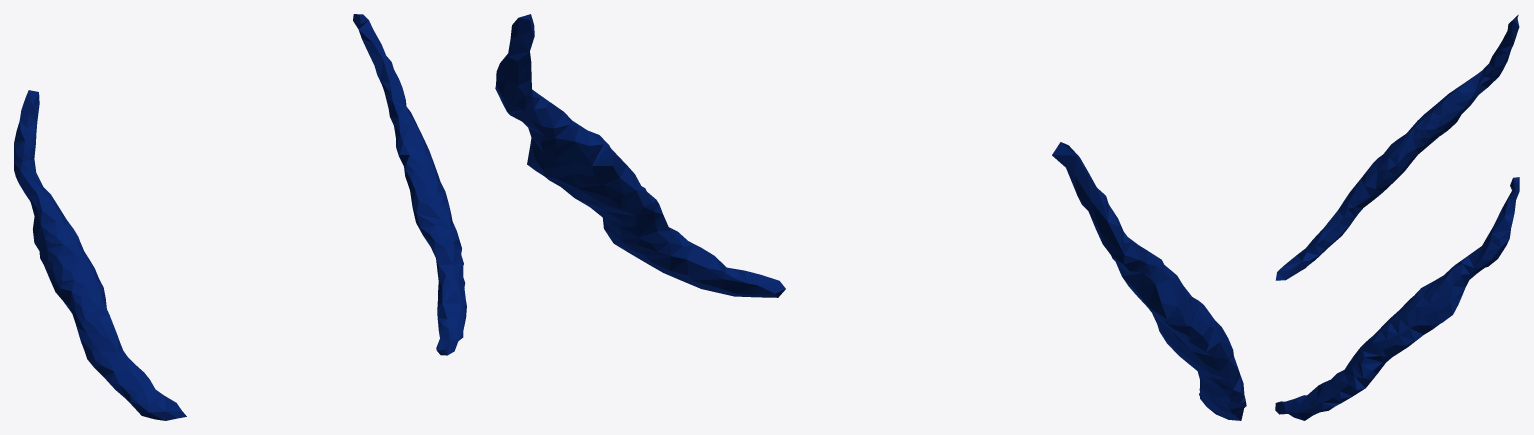
Rendered from 153-PrS-presubiculum-('0.0000', '0.1529', '0.4980').obj.
3 views of the same model, side by side, from view 1: azimuth 30°, elevation 25°; view 2: azimuth 150°, elevation 25°; view 3: azimuth 270°, elevation 25° (orthographic). The views are drawn at different scales.
Bounding box in the file's own units: 150 × 91.99 × 80.93.
